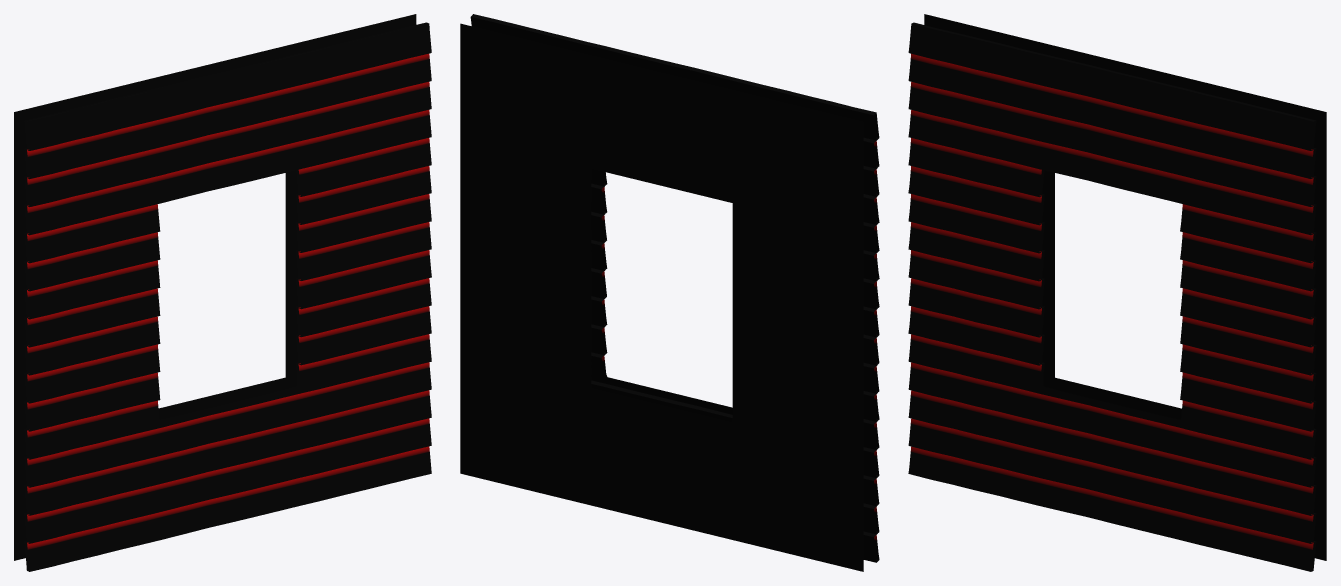
The model's file is SM_House_ExtWall_Window_B3.fbx.
3 renders of one model, left to right at view 1: azimuth 30°, elevation 25°; view 2: azimuth 150°, elevation 25°; view 3: azimuth 330°, elevation 25°, orthographic.
Parts seen in each view (by area): view 1: SM_House_ExtWall_Window_B3; view 2: SM_House_ExtWall_Window_B3; view 3: SM_House_ExtWall_Window_B3.
Boxes of the visible parts, left/top/right/bottom form: SM_House_ExtWall_Window_B3: left=14, top=14, right=431, bottom=571; SM_House_ExtWall_Window_B3: left=460, top=14, right=879, bottom=571; SM_House_ExtWall_Window_B3: left=908, top=14, right=1326, bottom=571.
Size of the model in its own units: 300 by 20.37 by 321.
